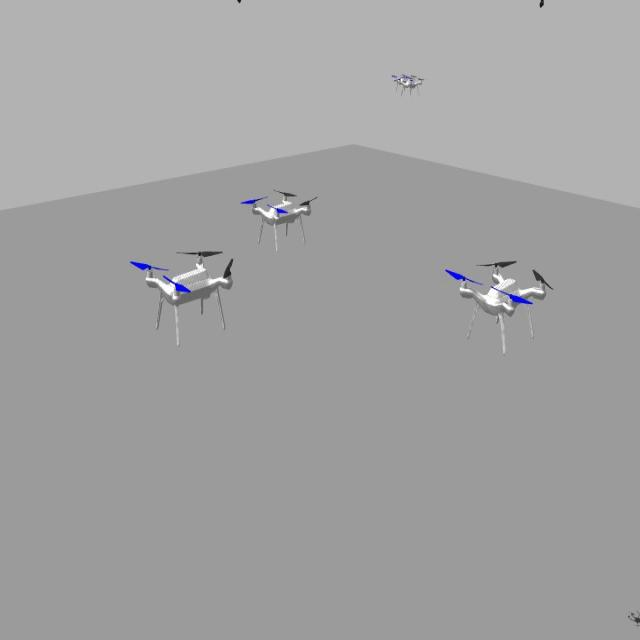Drone: (133, 237, 239, 350)
